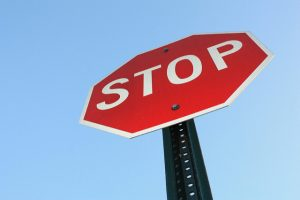stop_sign: (77, 29, 273, 138)
